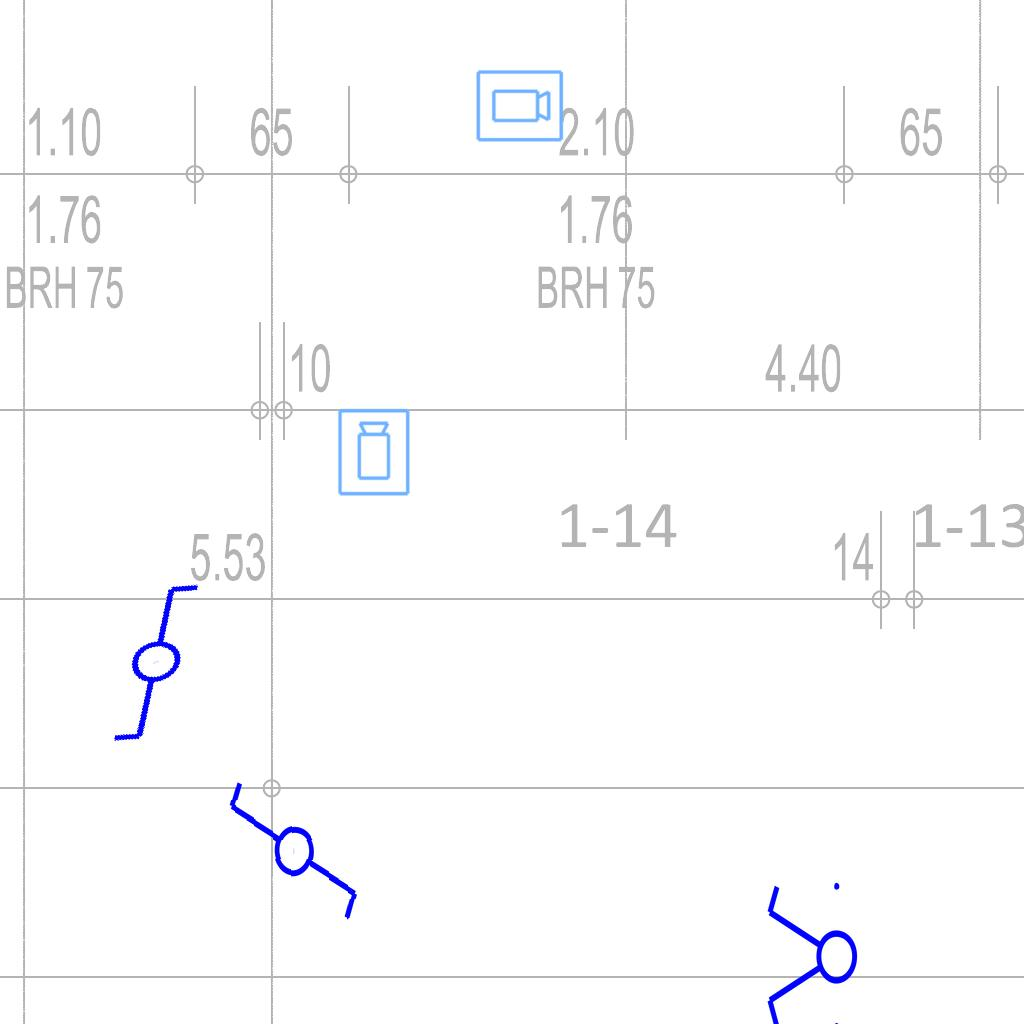KFO_Kamera_mit_Festobjektiv: (336, 407, 413, 498), (474, 68, 565, 145)
Serienschalter: (763, 874, 859, 1024)
Wechselschalter: (66, 566, 263, 756), (215, 776, 368, 942)
